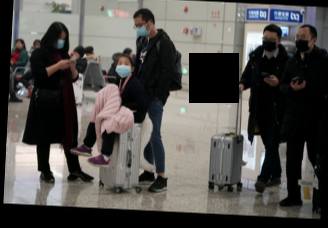with_mask: (294, 30, 313, 53), (261, 33, 280, 52), (132, 19, 149, 38), (115, 58, 131, 76), (52, 33, 65, 49)
without_mask: (14, 41, 21, 49)
